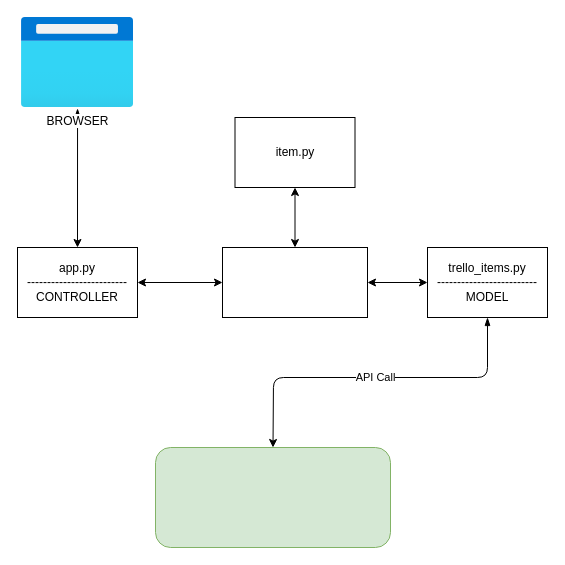
Some shapes in this 565 by 565 pixel diagram are drawn without their labels. Here are the shapes that lost their labels. From the top down, the centre of each, then its label:
At point (295, 282): "itemsViewModel.py ---------------------------- VIEW".
At point (272, 497): "Trello Third party service used to persist user tasks".
